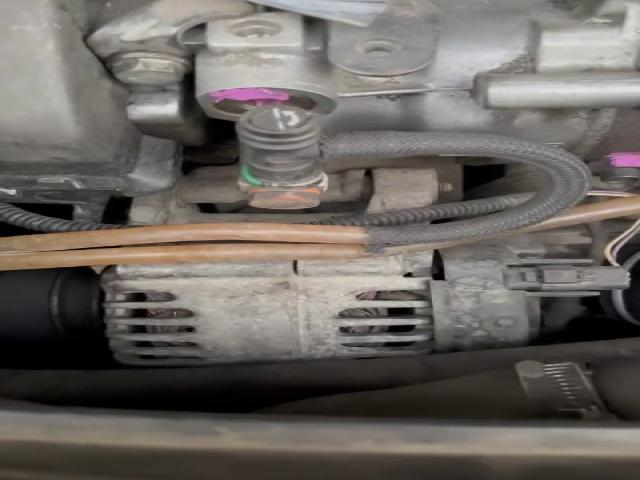alternator: (104, 251, 433, 365)
high_pressure_pump: (194, 0, 638, 181)
